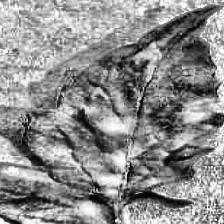Anthracnose Fruit Rot: (180, 94, 220, 122), (95, 112, 139, 135), (103, 145, 133, 173), (94, 175, 129, 198)
